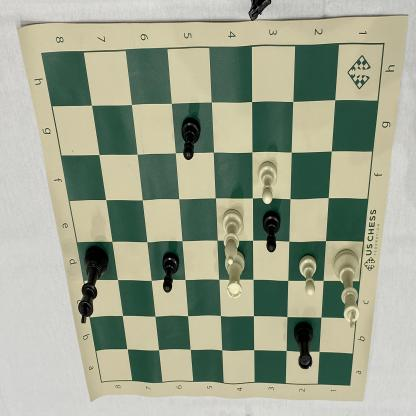black-king: (76, 245, 110, 326)
black-pawn: (178, 112, 203, 164), (261, 208, 283, 255), (162, 249, 180, 298)
black-rook: (291, 319, 317, 372)
white-bishop: (219, 204, 247, 269)
white-king: (330, 244, 364, 335)
white-pawn: (255, 158, 282, 206), (296, 252, 319, 301)
white-rook: (223, 246, 247, 304)
